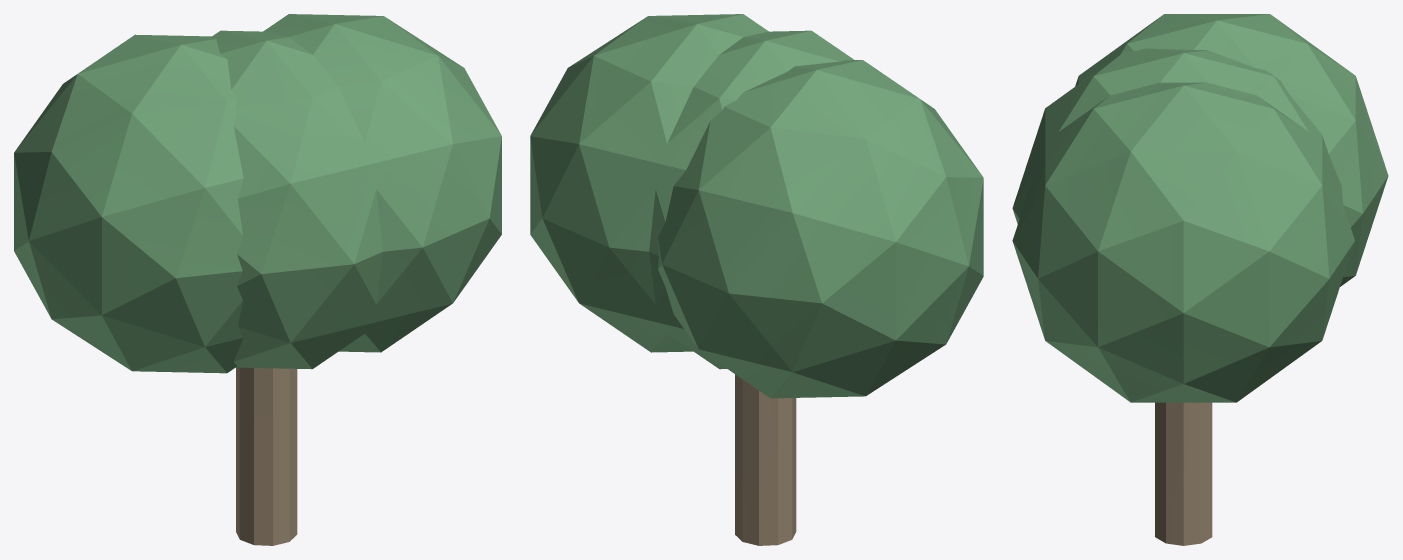
Rendered from broadleaf-07.glb.
3 renders of one model, left to right at view 1: azimuth 30°, elevation 25°; view 2: azimuth 150°, elevation 25°; view 3: azimuth 270°, elevation 25°, orthographic. The views are drawn at different scales.
Visible parts, largest first — view 1: world; view 2: world; view 3: world.
Boxes of the visible parts, box(x1,y1,x2,y2) form: world: box(14, 14, 501, 545); world: box(530, 14, 983, 545); world: box(1012, 14, 1388, 545).
Bounding box in the file's own units: 1.48 × 1.58 × 1.12.
